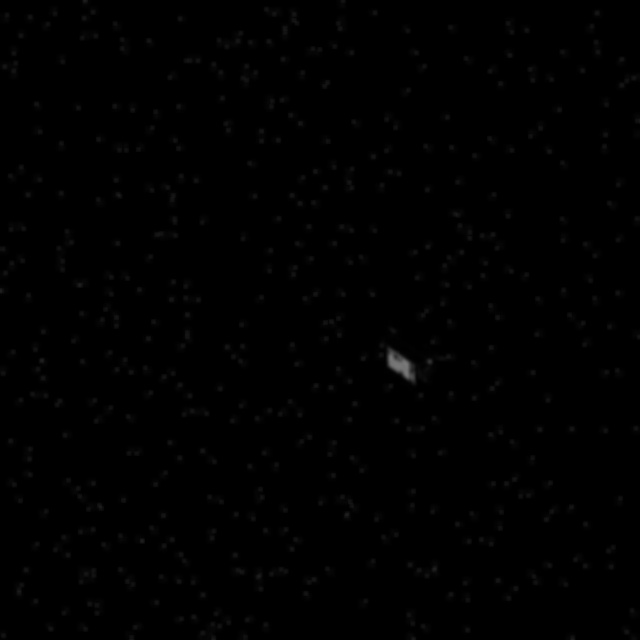satellite: (380, 318, 458, 381)
